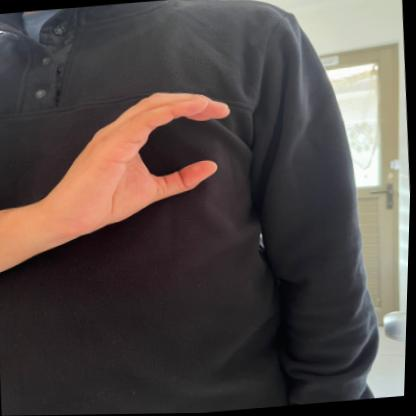C: (57, 79, 246, 233)
